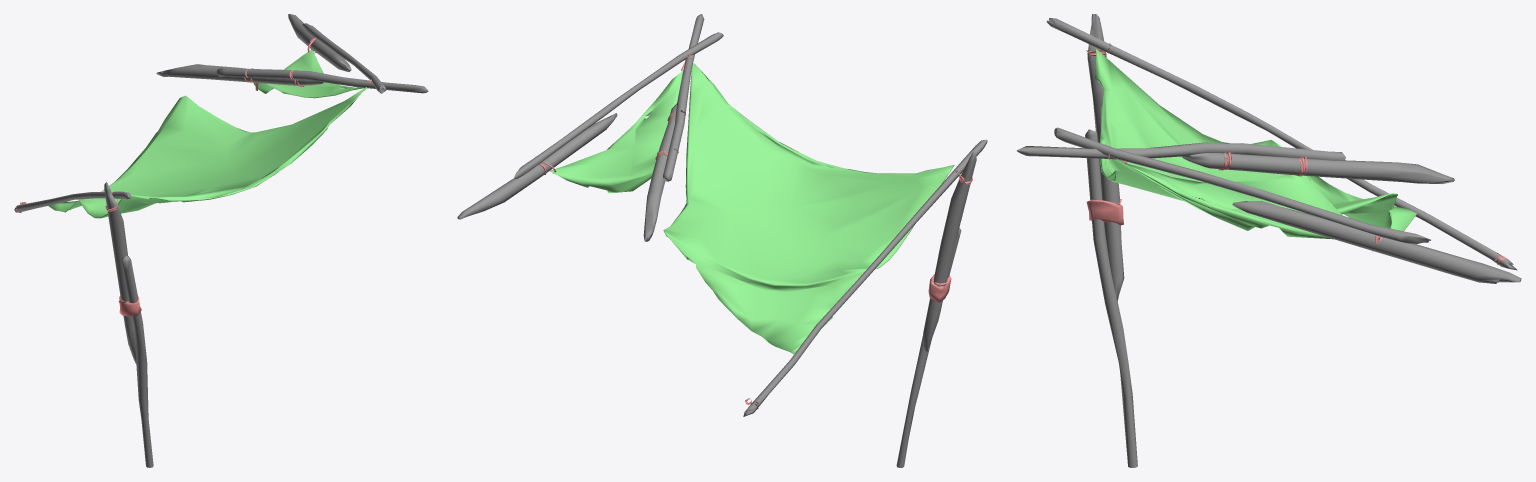
The model's file is wooden_village_tent_overhang_B_03.gltf.
The picture shows the model from 3 angles, left to right: view 1: azimuth 30°, elevation 25°; view 2: azimuth 150°, elevation 25°; view 3: azimuth 270°, elevation 25°; orthographic projection. The views are drawn at different scales.
Visible parts, largest first — view 1: wooden_village_tent_overhang_B_03; view 2: wooden_village_tent_overhang_B_03; view 3: wooden_village_tent_overhang_B_03.
Part boxes in pixels (x1=…): wooden_village_tent_overhang_B_03: x1=14, y1=14, x2=428, y2=467; wooden_village_tent_overhang_B_03: x1=457, y1=14, x2=987, y2=467; wooden_village_tent_overhang_B_03: x1=1016, y1=14, x2=1521, y2=467.
Size of the model in its own units: 4.79 by 4.65 by 4.51.
